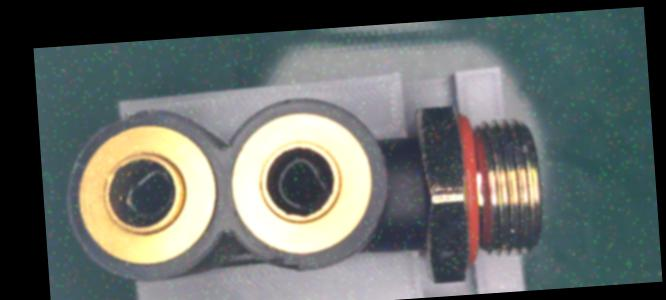bump: (259, 251, 301, 271), (98, 111, 144, 129)
joint line: (389, 186, 428, 197)
off-centered: (268, 155, 335, 213), (120, 169, 179, 222)
white mark: (400, 172, 417, 187)
